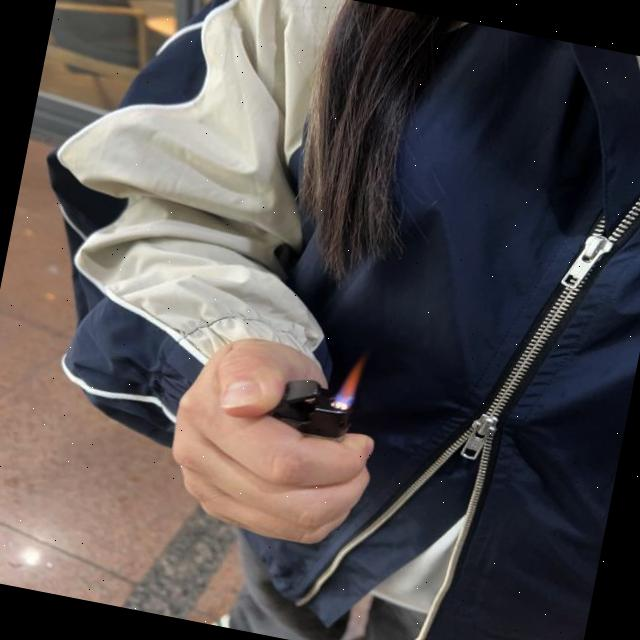fire: (335, 348, 367, 412)
